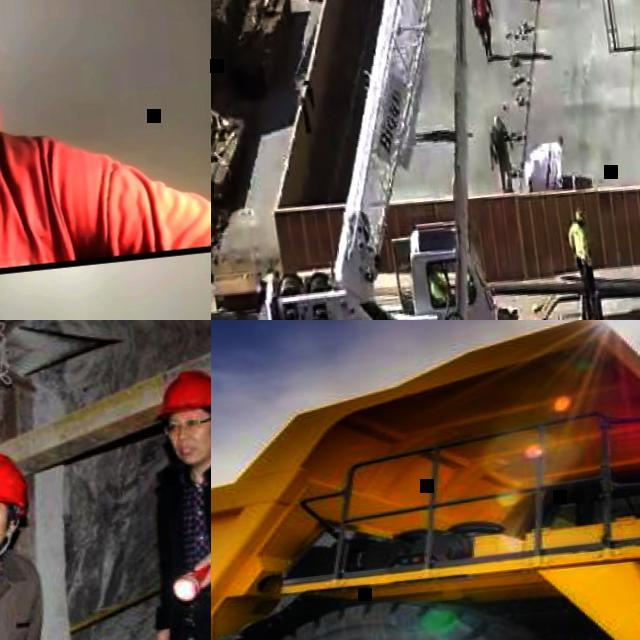helmet: (153, 364, 211, 421), (0, 444, 29, 519), (491, 115, 502, 132), (574, 207, 584, 222)
vest: (570, 228, 586, 256), (429, 277, 445, 302), (472, 0, 487, 18)
